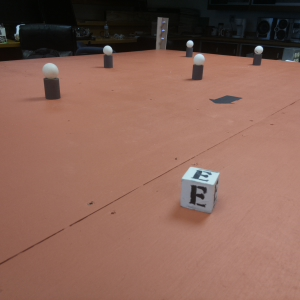blockE: (180, 166, 220, 216)
corner: (155, 16, 168, 50)
obstacle: (43, 63, 61, 99), (191, 54, 205, 80), (102, 44, 114, 69), (252, 44, 263, 67), (186, 40, 193, 57)
start: (210, 94, 241, 109)
